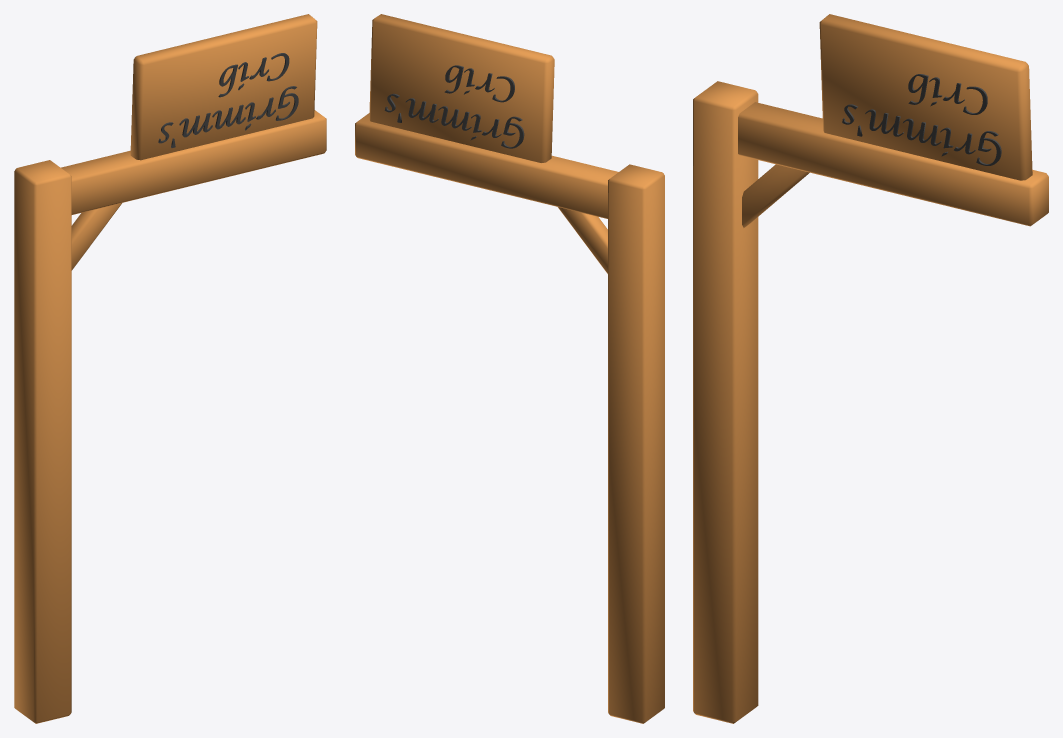
Rendered from Sign.fbx.
The picture shows the model from 3 angles, left to right: view 1: azimuth 30°, elevation 25°; view 2: azimuth 150°, elevation 25°; view 3: azimuth 330°, elevation 25°; orthographic projection. The views are drawn at different scales.
Parts seen in each view (by area): view 1: Sign_Post, Sign_Board; view 2: Sign_Post, Sign_Board; view 3: Sign_Post, Sign_Board.
Part boxes in pixels (bbox=[...]): Sign_Post: bbox=[14, 110, 326, 723]; Sign_Board: bbox=[130, 14, 317, 160]; Sign_Post: bbox=[355, 113, 664, 723]; Sign_Board: bbox=[369, 14, 554, 162]; Sign_Post: bbox=[693, 81, 1048, 723]; Sign_Board: bbox=[819, 14, 1032, 180].
Size of the model in its own units: 75.64 by 1204 by 587.
